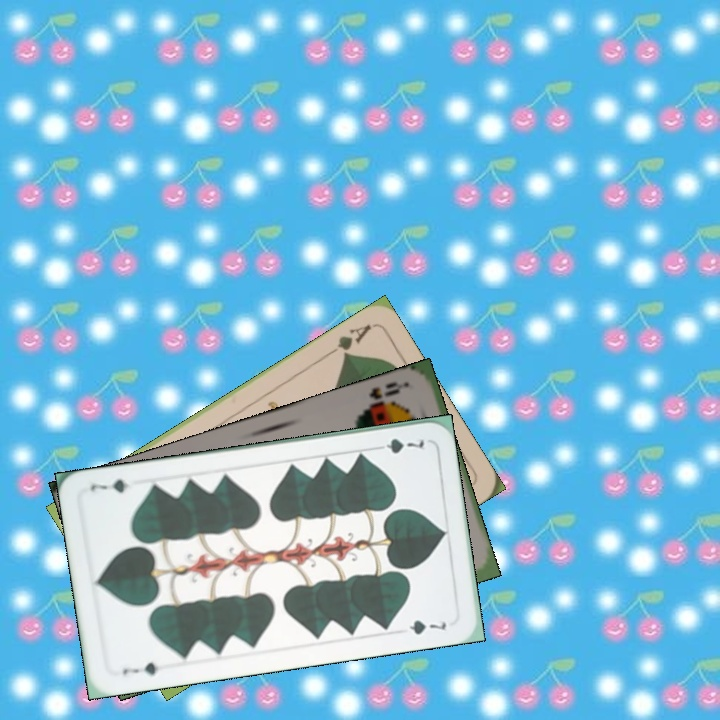G7: (370, 434, 427, 456), (118, 658, 161, 678)
GA: (322, 320, 374, 360)
SO: (357, 378, 410, 416)
